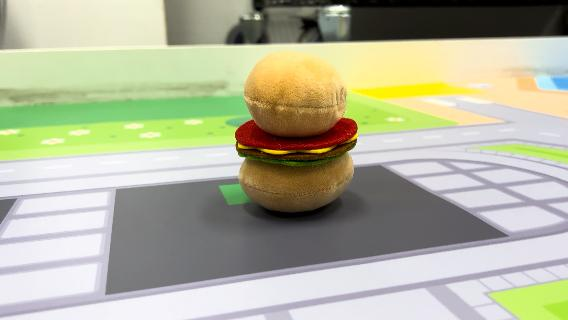burger: (232, 48, 362, 214)
